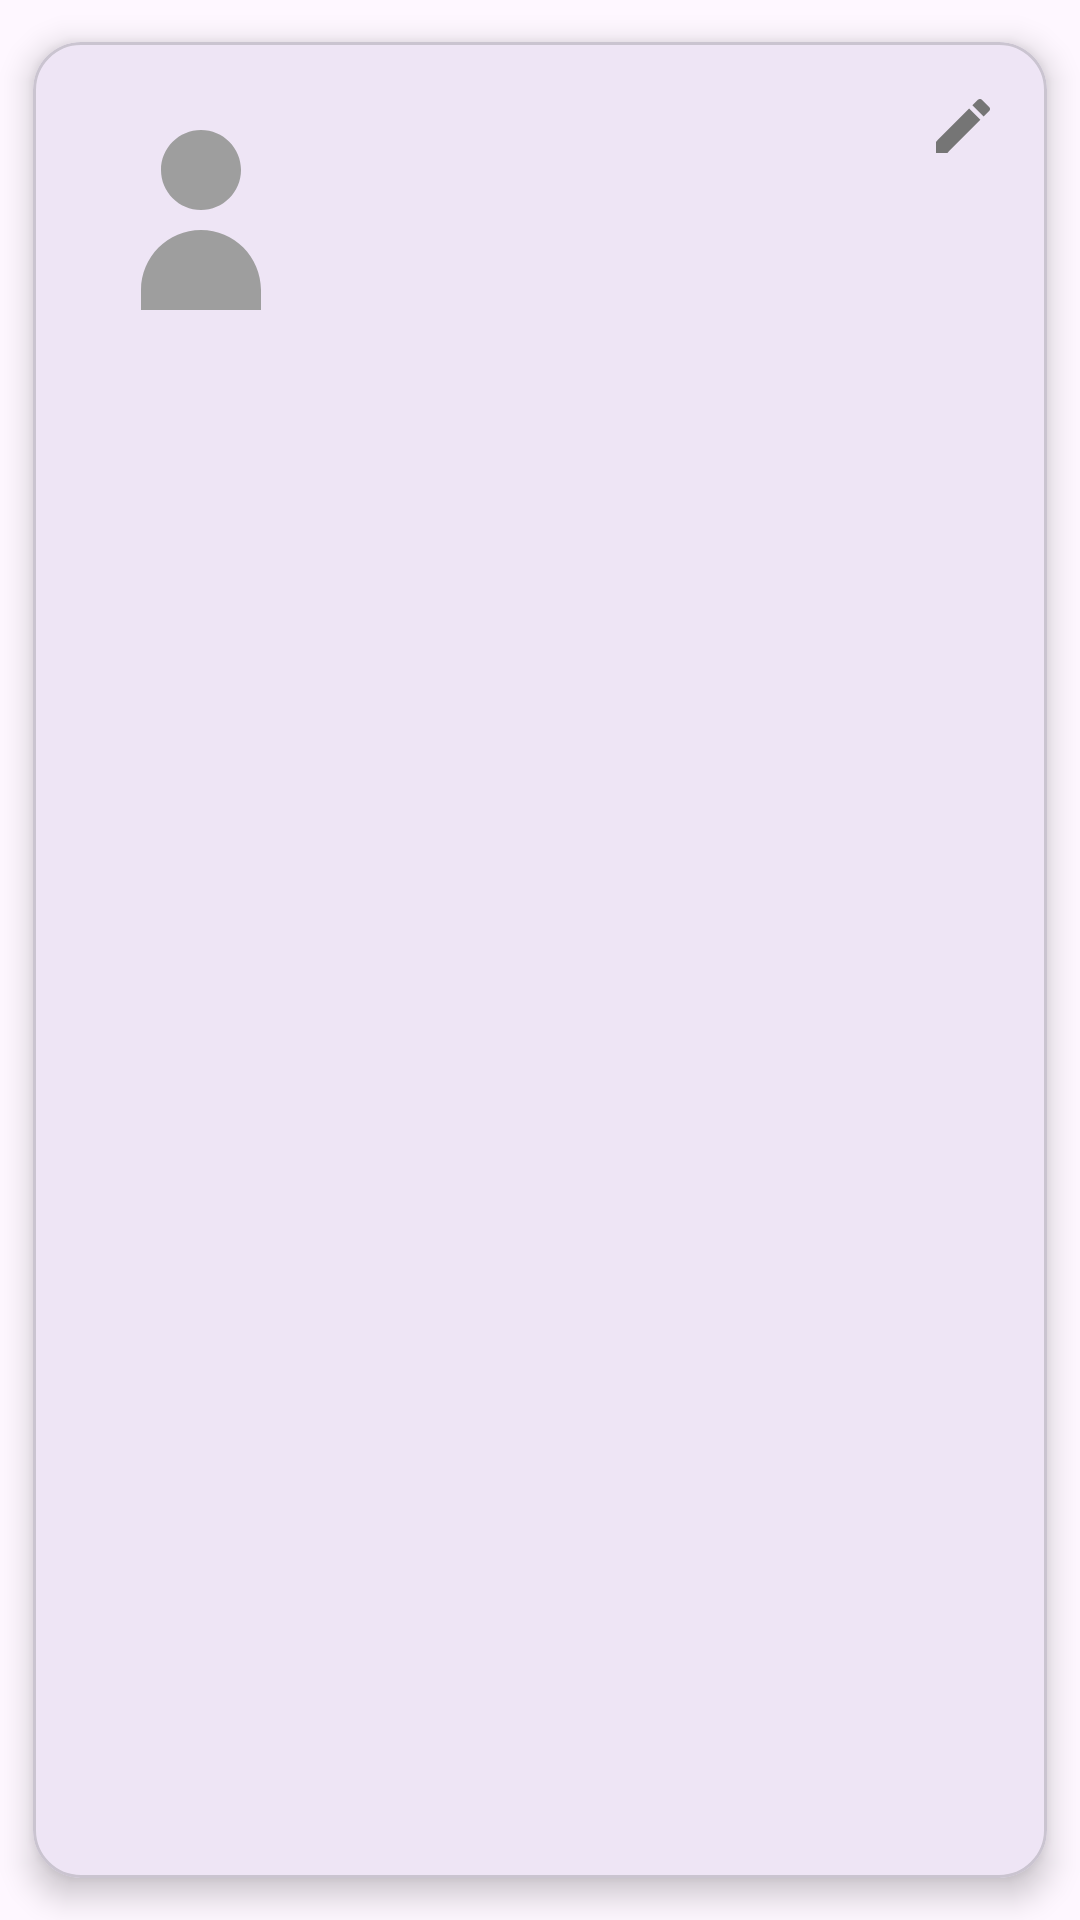

Locate icon controls on the screen. Image size 1080px×1920px, boxes as region(x1, y1, x2, y2).
Edit profile: region(936, 99, 990, 153)
